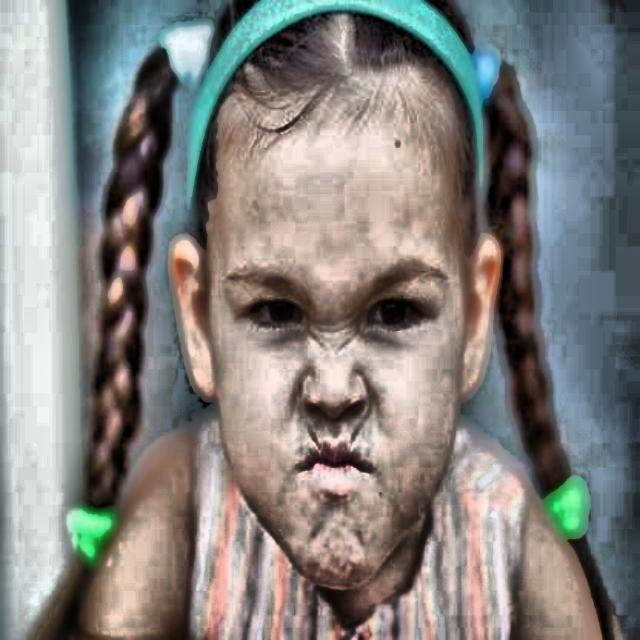angry: (181, 29, 485, 604)
